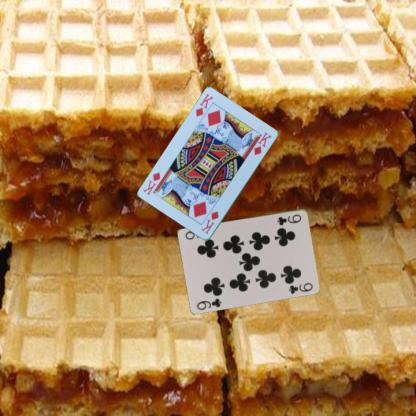9c: (194, 296, 223, 311), (275, 212, 303, 226)
Kd: (198, 209, 220, 235), (193, 92, 214, 118)
